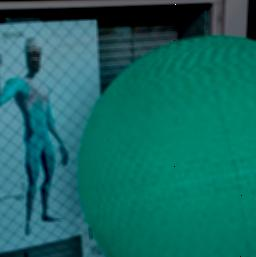algae: (81, 35, 256, 257)
